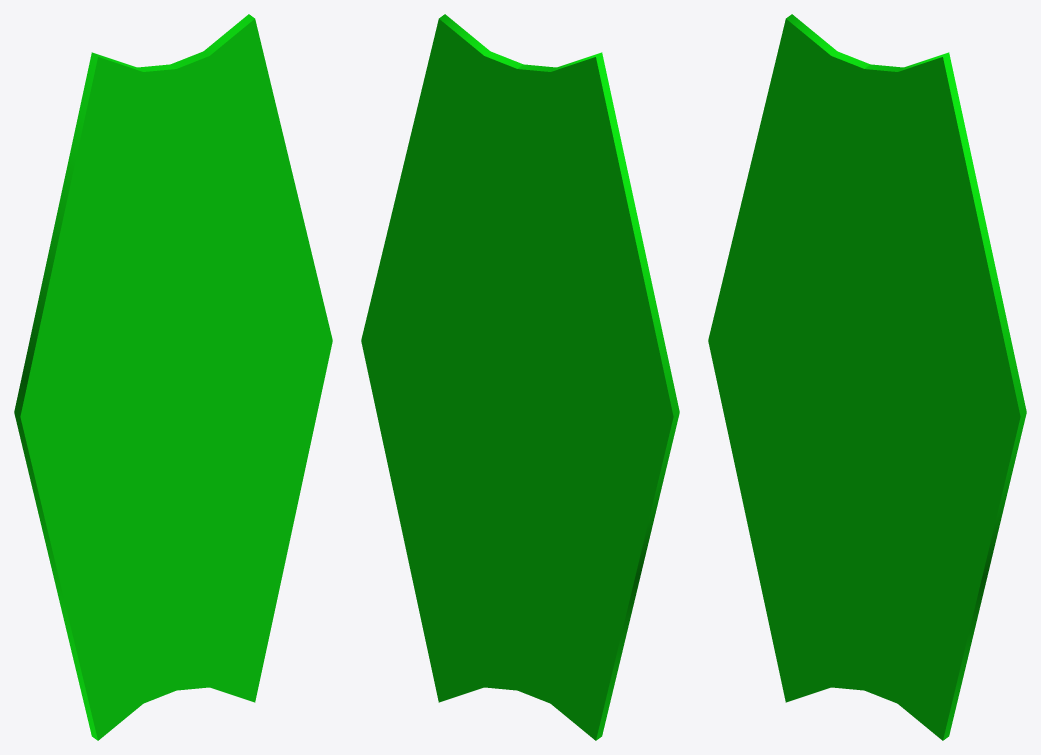
The model's file is hex_02_b.glb.
The picture shows the model from 3 angles, left to right: view 1: azimuth 30°, elevation 25°; view 2: azimuth 150°, elevation 25°; view 3: azimuth 330°, elevation 25°; orthographic projection.
Parts seen in each view (by area): view 1: longboat_027-mesh; view 2: longboat_027-mesh; view 3: longboat_027-mesh.
Boxes of the visible parts, bbox=[...] form: longboat_027-mesh: bbox=[14, 14, 332, 740]; longboat_027-mesh: bbox=[361, 14, 679, 740]; longboat_027-mesh: bbox=[708, 14, 1026, 740].
Bounding box in the file's own units: 1.33 × 2.79 × 0.0461.
